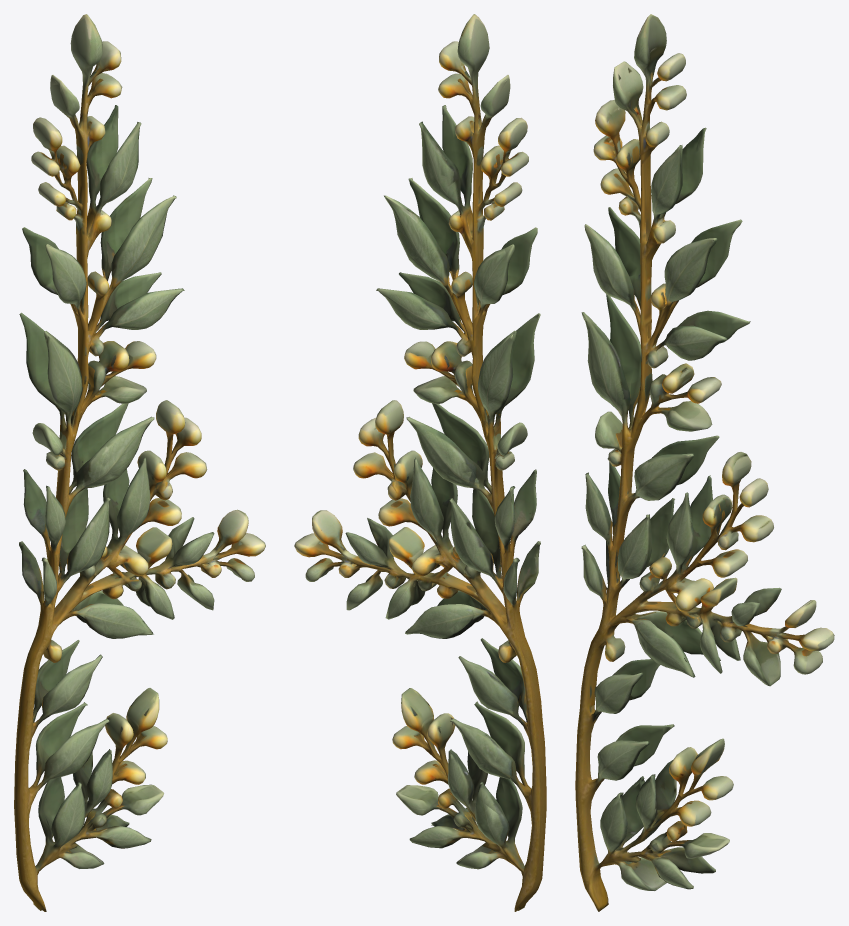
File: ramo_esquerdo_convite_15k.glb
The picture shows the model from 3 angles, left to right: view 1: azimuth 30°, elevation 25°; view 2: azimuth 150°, elevation 25°; view 3: azimuth 330°, elevation 25°; orthographic projection. The views are drawn at different scales.
Parts seen in each view (by area): view 1: tripo_node_40b7532e-469f-414a-a67b-762d61fb4ba8; view 2: tripo_node_40b7532e-469f-414a-a67b-762d61fb4ba8; view 3: tripo_node_40b7532e-469f-414a-a67b-762d61fb4ba8.
Boxes of the visible parts, x1=… form: tripo_node_40b7532e-469f-414a-a67b-762d61fb4ba8: x1=14, y1=14, x2=265, y2=911; tripo_node_40b7532e-469f-414a-a67b-762d61fb4ba8: x1=294, y1=14, x2=546, y2=911; tripo_node_40b7532e-469f-414a-a67b-762d61fb4ba8: x1=575, y1=14, x2=834, y2=911.
Size of the model in its own units: 0.2876 by 0.982 by 0.0596.
1 material, 1 textured.
